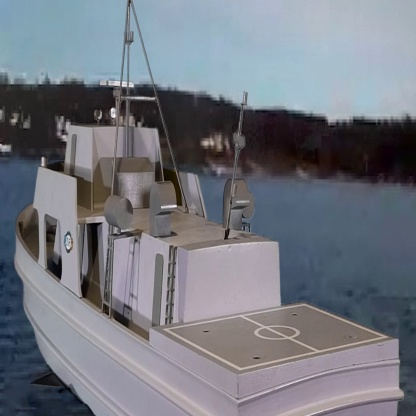YP689: (12, 0, 404, 416)
